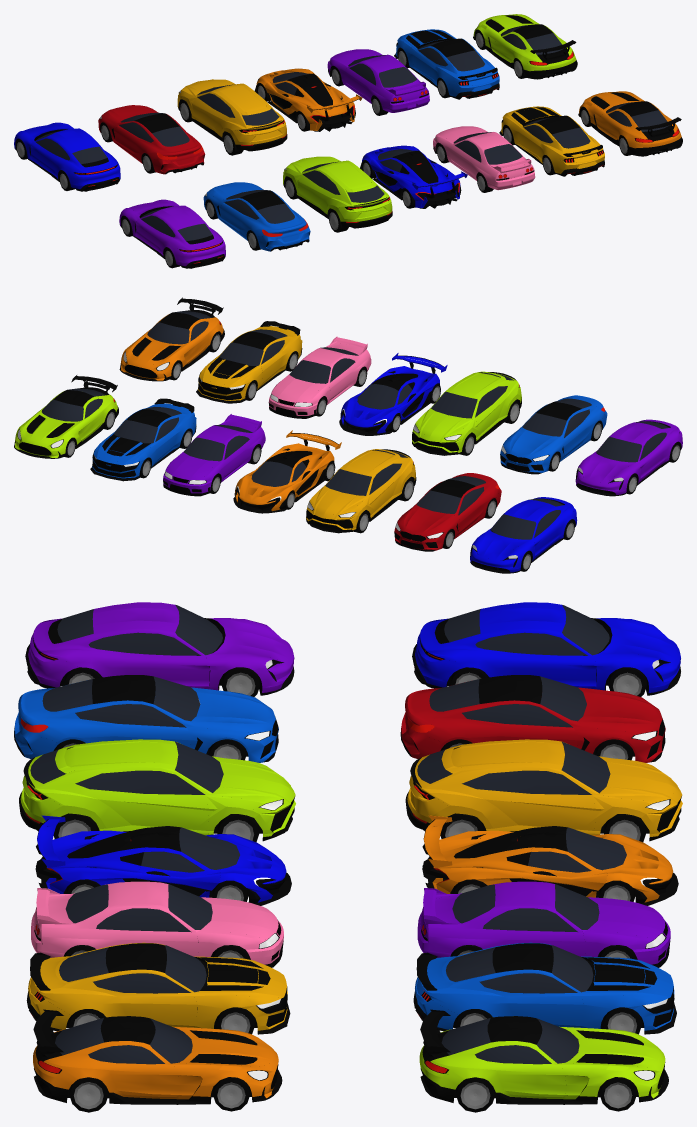
File: car_pack_2.glb
The picture shows the model from 3 angles, top to bottom: view 1: azimuth 30°, elevation 25°; view 2: azimuth 150°, elevation 25°; view 3: azimuth 270°, elevation 25°; orthographic projection. The views are drawn at different scales.
Parts seen in each view (by area): view 1: Paint.014, Paint.001, Paint.007, Paint.008, Paint.004, Paint.011, Paint.015, Paint, Paint.005, Paint.010, Paint.003, Paint.012 (+27 smaller); view 2: Paint.014, Paint.001, Paint.007, Paint.008, Paint.011, Paint.004, Paint, Paint.015, Paint.012, Paint.003, Paint.010, Paint.005 (+30 smaller); view 3: Paint.014, Paint.001, Paint.008, Paint.007, Paint.011, Paint.004, Paint, Paint.015, Paint.010, Paint.005, Paint.006, Paint.009 (+36 smaller).
Boxes of the visible parts, <box> form: Paint.014: <box>177,79,286,144</box>; Paint.001: <box>283,156,392,221</box>; Paint.007: <box>119,199,225,266</box>; Paint.008: <box>14,122,120,189</box>; Paint.004: <box>433,126,535,190</box>; Paint.011: <box>327,49,429,112</box>; Paint.015: <box>98,105,205,174</box>; Paint: <box>203,182,310,251</box>; Paint.005: <box>501,106,604,173</box>; Paint.010: <box>395,29,499,96</box>; Paint.003: <box>362,145,467,207</box>; Paint.012: <box>256,68,362,130</box>; Paint.014: <box>306,449,415,530</box>; Paint.001: <box>412,371,521,452</box>; Paint.007: <box>575,419,682,494</box>; Paint.008: <box>470,497,577,572</box>; Paint.011: <box>163,414,265,493</box>; Paint.004: <box>268,336,371,415</box>; Paint: <box>500,395,607,472</box>; Paint.015: <box>394,473,501,550</box>; Paint.012: <box>235,430,341,511</box>; Paint.003: <box>341,353,447,433</box>; Paint.010: <box>92,403,196,478</box>; Paint.005: <box>197,326,302,400</box>; Paint.014: <box>407,739,682,836</box>; Paint.001: <box>20,739,295,836</box>; Paint.008: <box>415,602,680,692</box>; Paint.007: <box>28,602,294,692</box>; Paint.011: <box>417,881,670,964</box>; Paint.004: <box>31,881,283,964</box>; Paint: <box>14,684,278,762</box>; Paint.015: <box>401,682,665,762</box>; Paint.010: <box>415,942,674,1030</box>; Paint.005: <box>28,942,287,1030</box>; Paint.006: <box>33,1026,278,1099</box>; Paint.009: <box>419,1026,665,1099</box>.
Bounding box in the file's own units: 19.82 × 1.64 × 12.32.
